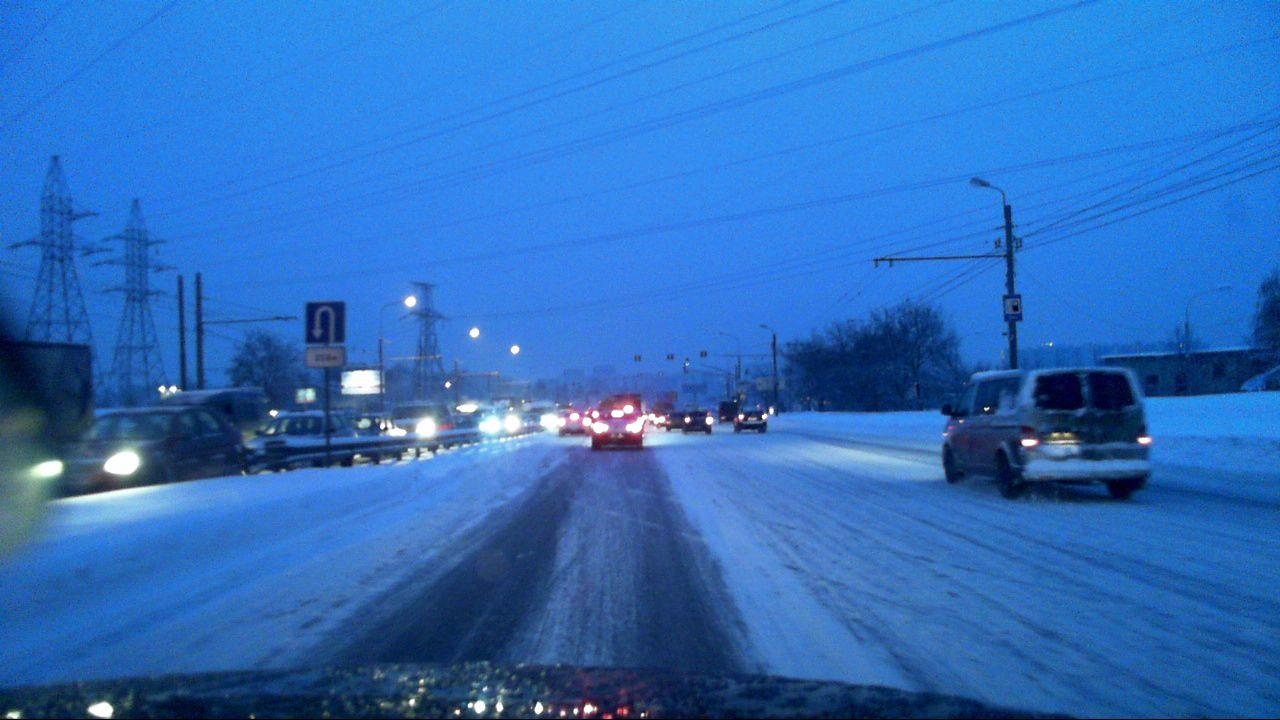6_3_1: (304, 299, 349, 340)
7_3: (1000, 297, 1023, 320)
8_1_1: (305, 344, 347, 366)
